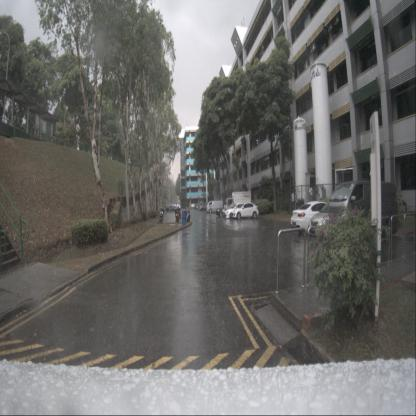vehicle-car: (327, 179, 399, 245), (310, 201, 370, 241), (289, 201, 342, 235), (232, 203, 260, 220), (225, 204, 253, 220), (216, 205, 240, 217), (206, 201, 224, 214), (166, 204, 178, 212), (196, 204, 205, 211)
vehicle-motorcycle: (173, 203, 180, 223), (175, 203, 182, 221), (158, 206, 164, 223)
vehicle-truck: (224, 190, 251, 218), (199, 201, 215, 211)
